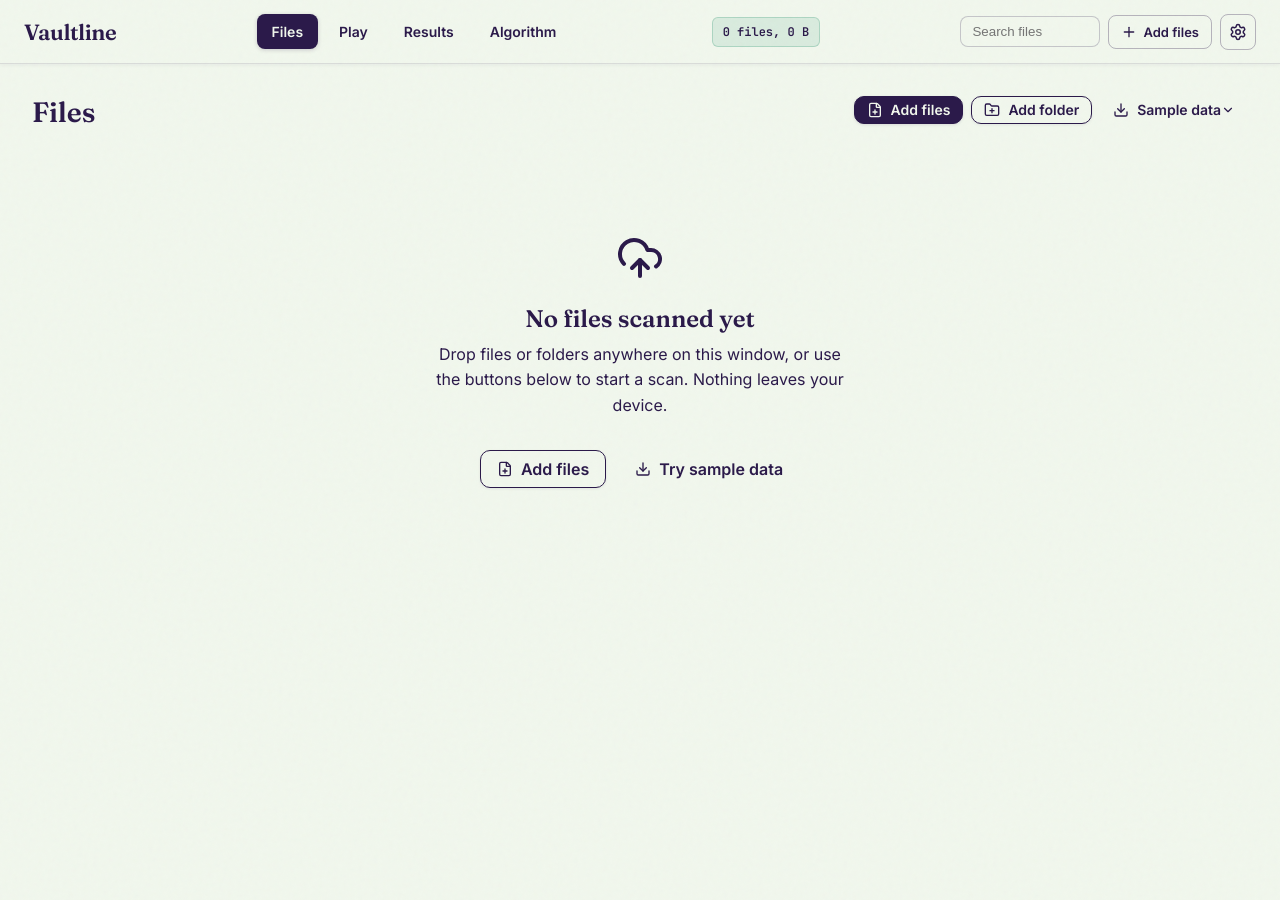
Test case: Landing page › hides the app top bar when the Vaultline brand returns to the landing route
The image size is (1280, 900).
Step 1. Click the button with aria-label "Vaultline landing page" → (70, 32), box [24, 18, 116, 46]
(page scrolled)
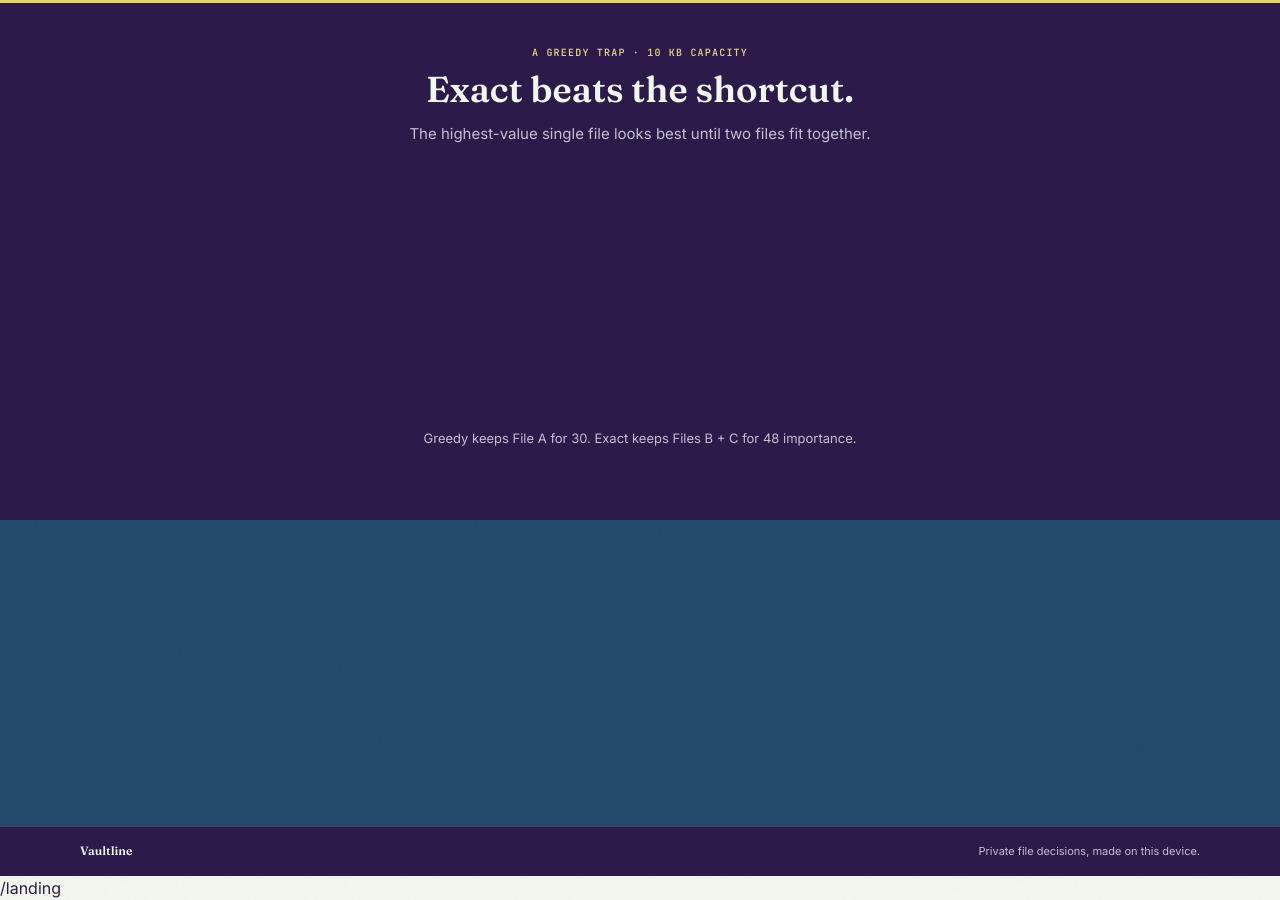
Expected: the text with test id "current-path" reads "/landing", [0, 878, 61, 898]
Expected: the header is gone
